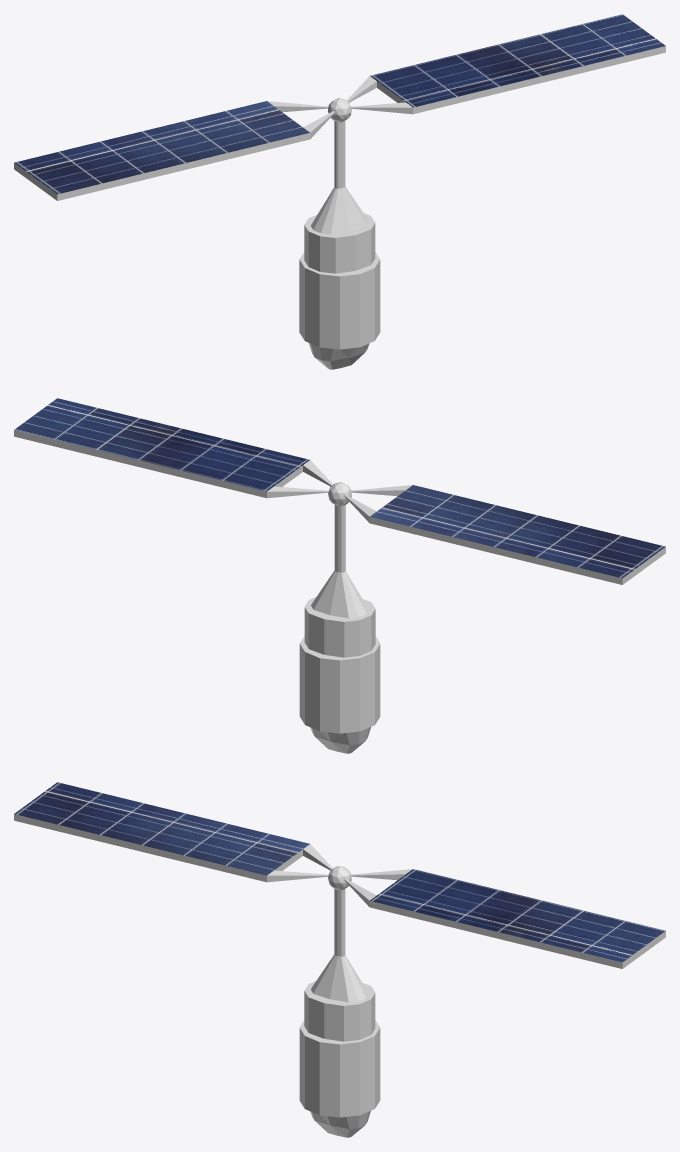
Rendered from satelita (1).dae.
The picture shows the model from 3 angles, top to bottom: view 1: azimuth 30°, elevation 25°; view 2: azimuth 150°, elevation 25°; view 3: azimuth 330°, elevation 25°; orthographic projection.
Visible parts, largest first — view 1: Cylinder; view 2: Cylinder; view 3: Cylinder.
Boxes of the visible parts, <box> form: Cylinder: <box>14,14,665,369</box>; Cylinder: <box>14,398,665,753</box>; Cylinder: <box>14,782,665,1137</box>.
Bounding box in the file's own units: 17.41 × 2.15 × 7.29.
Materials: 1 (1 with a texture image).
